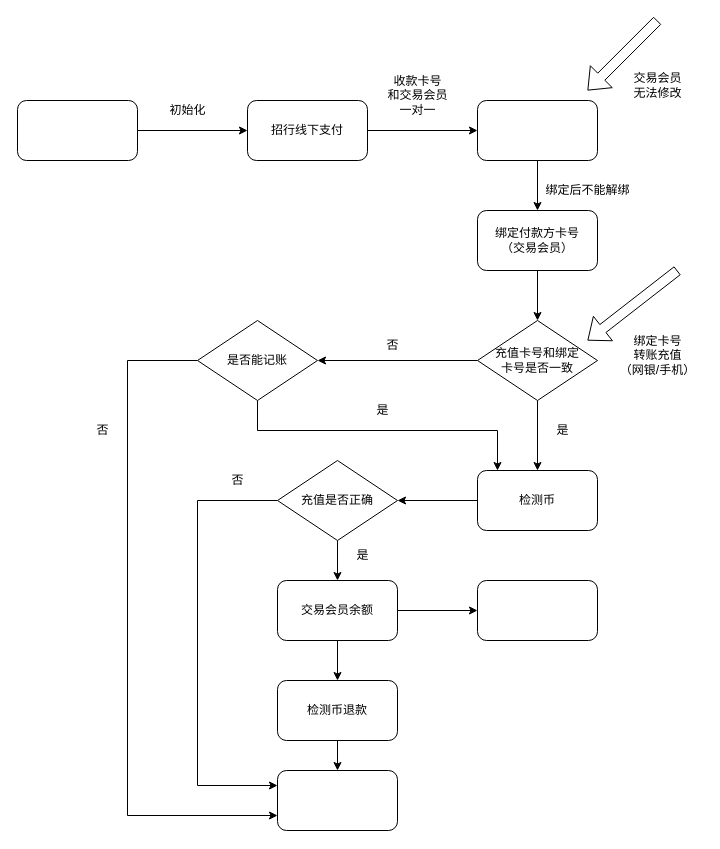
Image size: 720x849. Some labels were removed from this diagram. The centre of each missing label's shape, as x and y in pixels:
"业务系统" belongs at point (77, 130).
"只能原路退回到付款方卡号上" belongs at point (337, 800).
"消费" belongs at point (537, 610).
"获取收款卡号" belongs at point (537, 130).
